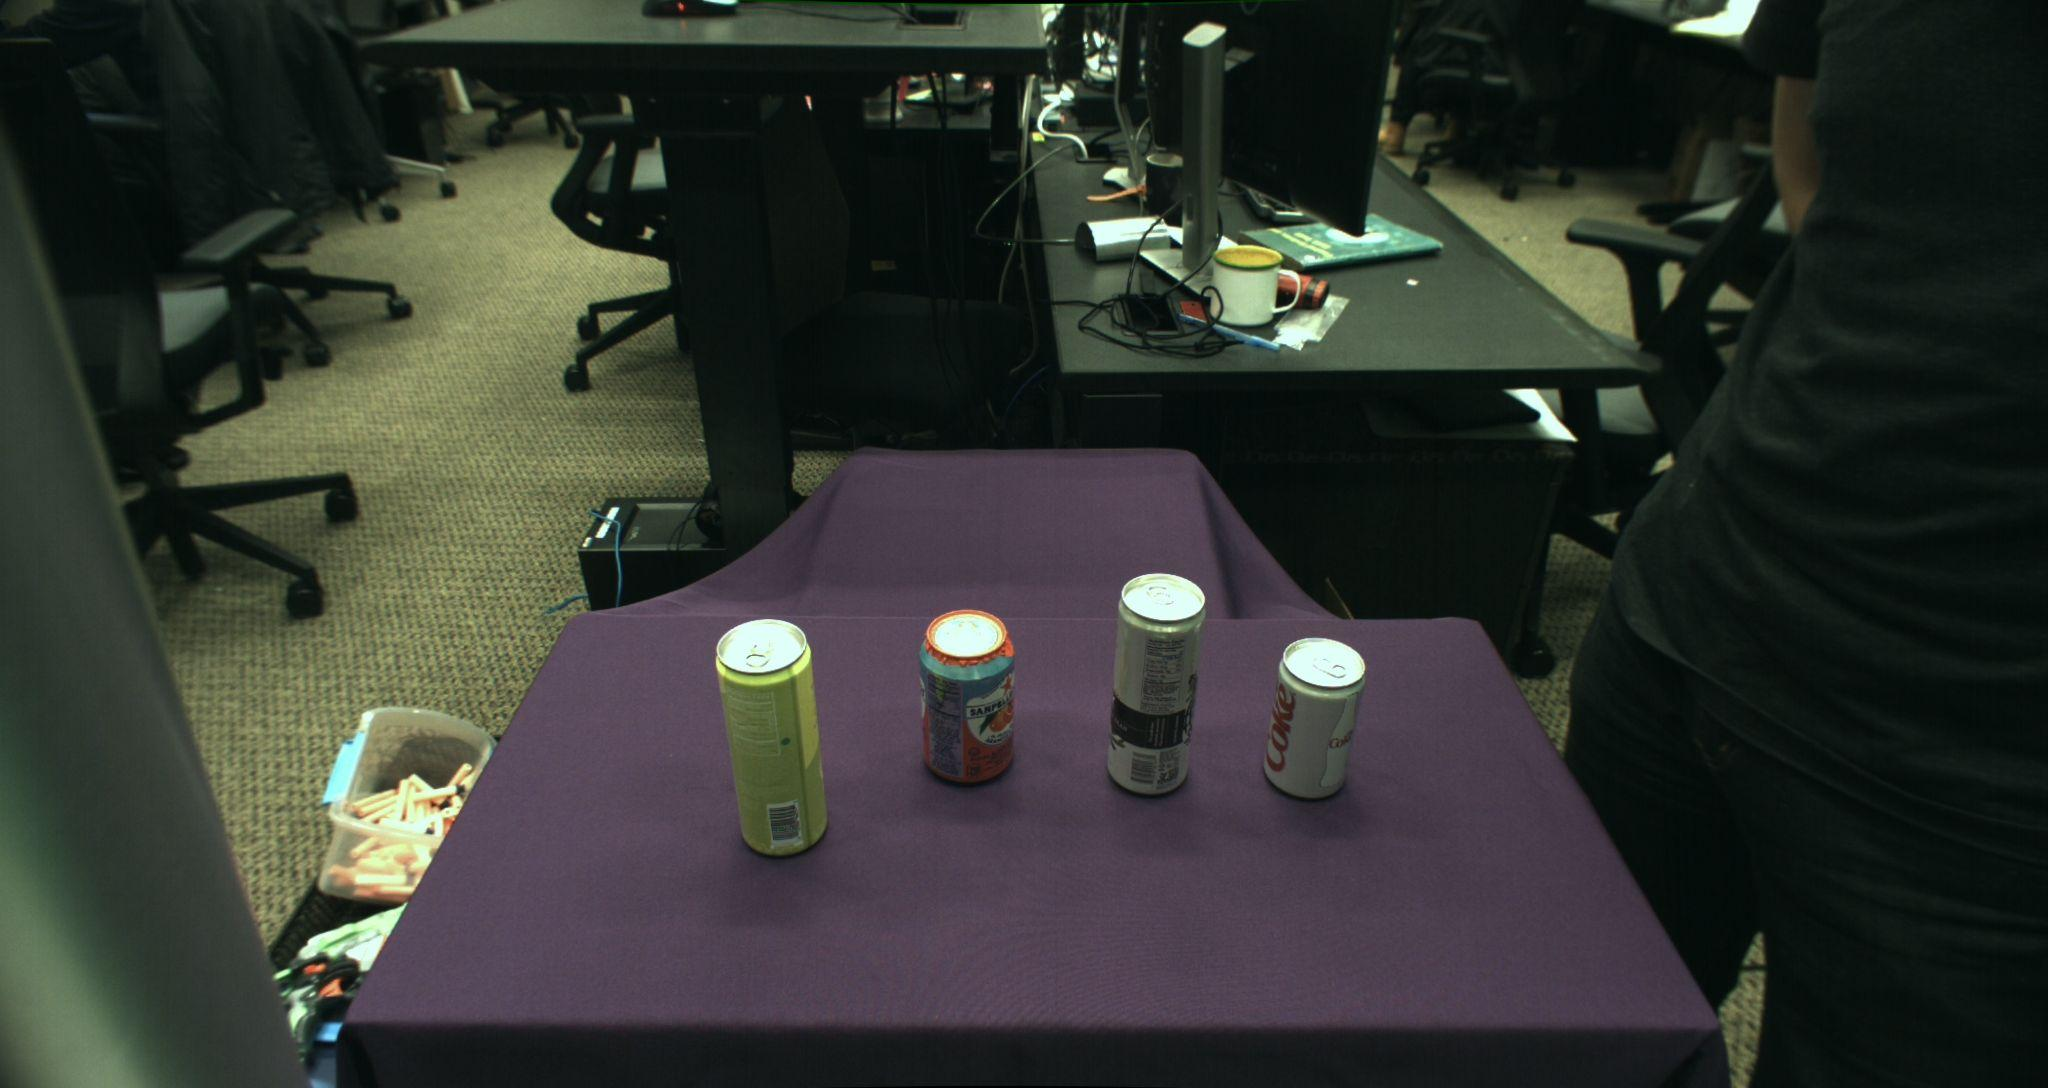can_diet_coke_small: (1262, 635, 1365, 801)
can_dry_sparkling_vanilla_bean: (1108, 574, 1206, 797)
can_izze_fusions_lemon_lime: (715, 618, 828, 859)
can_sanpellegrino_blood_orange: (918, 608, 1016, 786)
